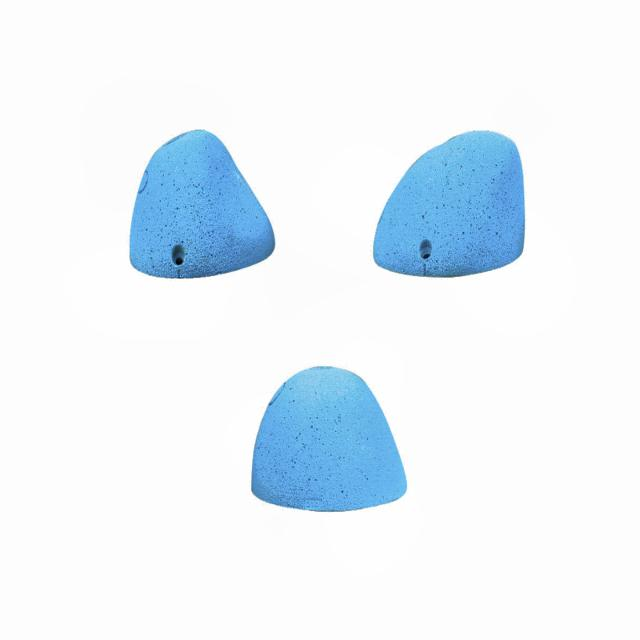Hold: (246, 362, 409, 514), (368, 126, 528, 278), (128, 130, 281, 280)
